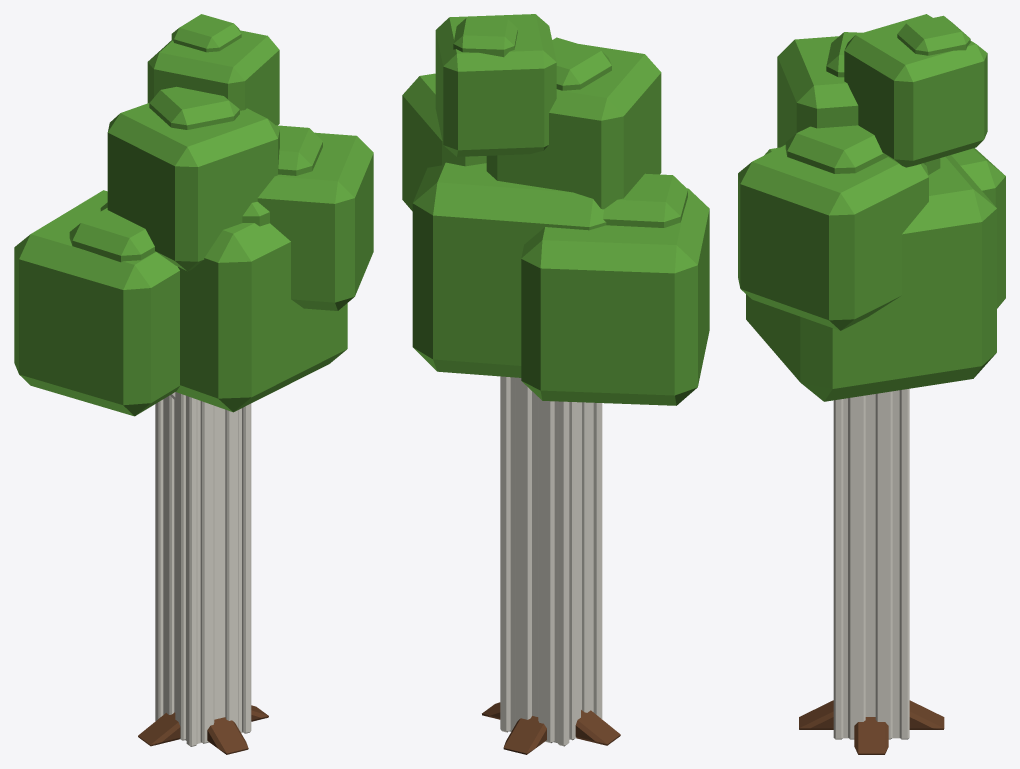
File: Birch2.fbx
3 renders of one model, left to right at view 1: azimuth 30°, elevation 25°; view 2: azimuth 150°, elevation 25°; view 3: azimuth 270°, elevation 25°, orthographic. The views are drawn at different scales.
Parts seen in each view (by area): view 1: Trunk, LeafBlock_1, LeafBlock_3, Leaves, LeafBlock_2, LeafBlock_4, Root_3, Root_2; view 2: LeafBlock_1, Trunk, Leaves, LeafBlock_3, LeafBlock_4, LeafBlock_2, Root_1, Root_2; view 3: LeafBlock_2, Leaves, Trunk, LeafBlock_4, LeafBlock_3, LeafBlock_1, Root_4, Root_1, Root_3.
Boxes of the visible parts, x1,y1,x2,y2 form: Trunk: (155, 392, 251, 746); LeafBlock_1: (14, 190, 180, 416); LeafBlock_3: (107, 86, 279, 271); Leaves: (100, 201, 347, 412); LeafBlock_2: (257, 125, 373, 310); LeafBlock_4: (147, 14, 279, 125); Root_3: (207, 717, 248, 754); Root_2: (138, 712, 180, 746); LeafBlock_1: (521, 173, 709, 405); Trunk: (500, 376, 602, 746); Leaves: (412, 162, 606, 377); LeafBlock_3: (486, 37, 661, 209); LeafBlock_4: (435, 14, 556, 156); LeafBlock_2: (402, 73, 486, 211); Root_1: (503, 716, 546, 754); Root_2: (575, 710, 620, 745); LeafBlock_2: (738, 125, 928, 330); Leaves: (746, 147, 996, 401); Trunk: (833, 388, 909, 739); LeafBlock_4: (844, 14, 987, 167); LeafBlock_3: (777, 32, 940, 174); LeafBlock_1: (951, 148, 1005, 308); Root_4: (854, 717, 888, 754); Root_1: (909, 700, 944, 729); Root_3: (799, 700, 833, 729).
Bounding box in the file's own units: 12.05 × 24.85 × 8.45.
